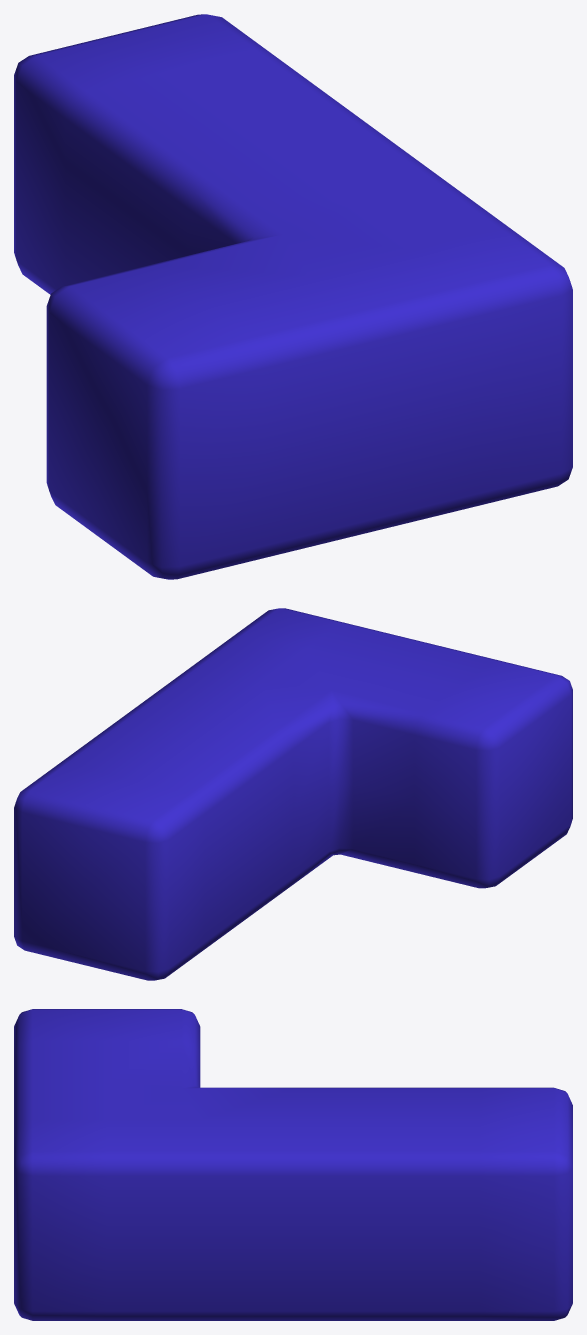
The model's file is tetrisJ.obj.
3 renders of one model, top to bottom at view 1: azimuth 30°, elevation 25°; view 2: azimuth 150°, elevation 25°; view 3: azimuth 270°, elevation 25°, orthographic. The views are drawn at different scales.
Visible parts, largest first — view 1: Cube; view 2: Cube; view 3: Cube.
Boxes of the visible parts, left/top/right/bottom form: Cube: left=14, top=14, right=572, bottom=579; Cube: left=14, top=608, right=572, bottom=980; Cube: left=14, top=1009, right=572, bottom=1320.
Size of the model in its own units: 0.3 by 0.15 by 0.45.
